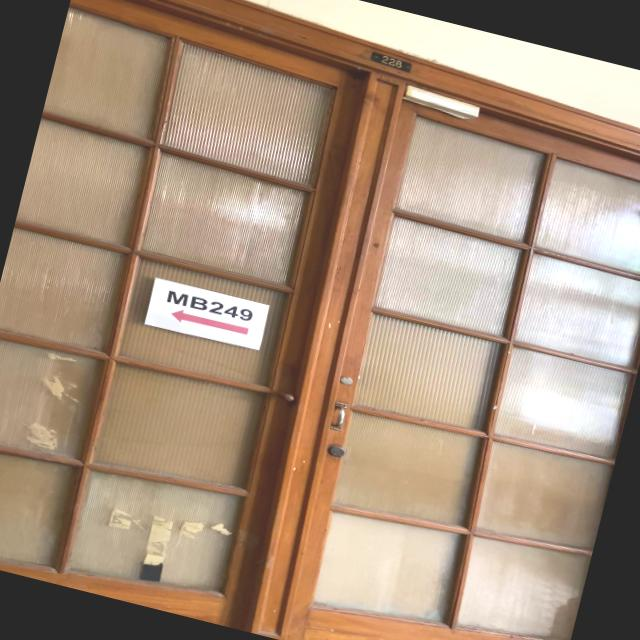room228: (366, 49, 414, 74)
